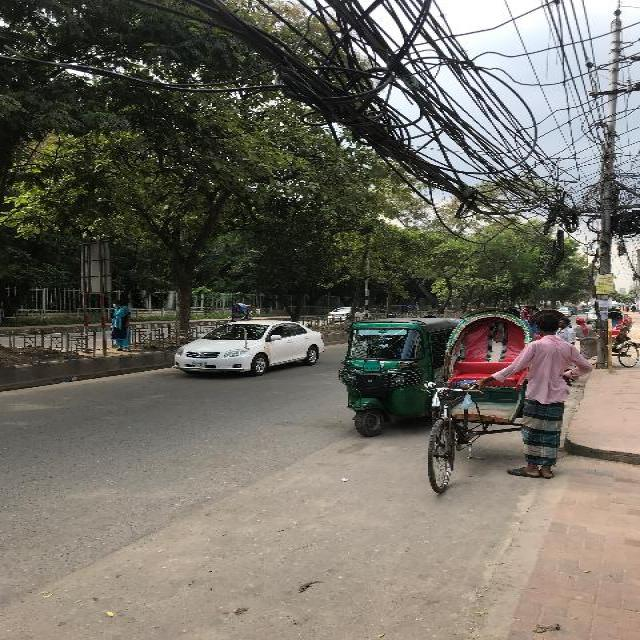vehicle: (416, 307, 538, 497), (337, 318, 462, 437), (170, 319, 325, 376), (611, 308, 639, 367), (326, 308, 372, 323), (226, 305, 256, 324), (554, 308, 571, 317), (567, 306, 579, 317), (582, 305, 591, 313)
